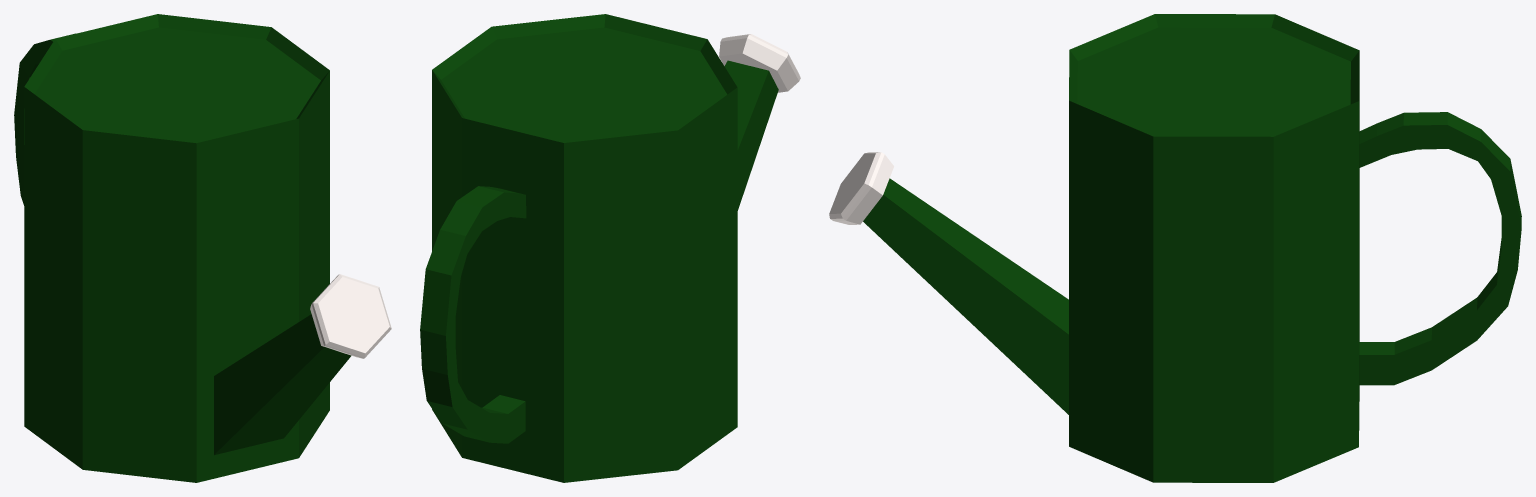
The model's file is Regador.fbx.
3 renders of one model, left to right at view 1: azimuth 30°, elevation 25°; view 2: azimuth 150°, elevation 25°; view 3: azimuth 270°, elevation 25°, orthographic.
Parts seen in each view (by area): view 1: Círculo, Círculo.001; view 2: Círculo, Círculo.001; view 3: Círculo, Círculo.001.
Boxes of the visible parts, <box> form: Círculo: <box>14,14,351,482</box>; Círculo.001: <box>310,274,391,358</box>; Círculo: <box>420,14,778,482</box>; Círculo.001: <box>719,34,800,92</box>; Círculo: <box>863,14,1521,482</box>; Círculo.001: <box>829,152,893,224</box>.
Bounding box in the file's own units: 39.01 × 51.26 × 92.97.
